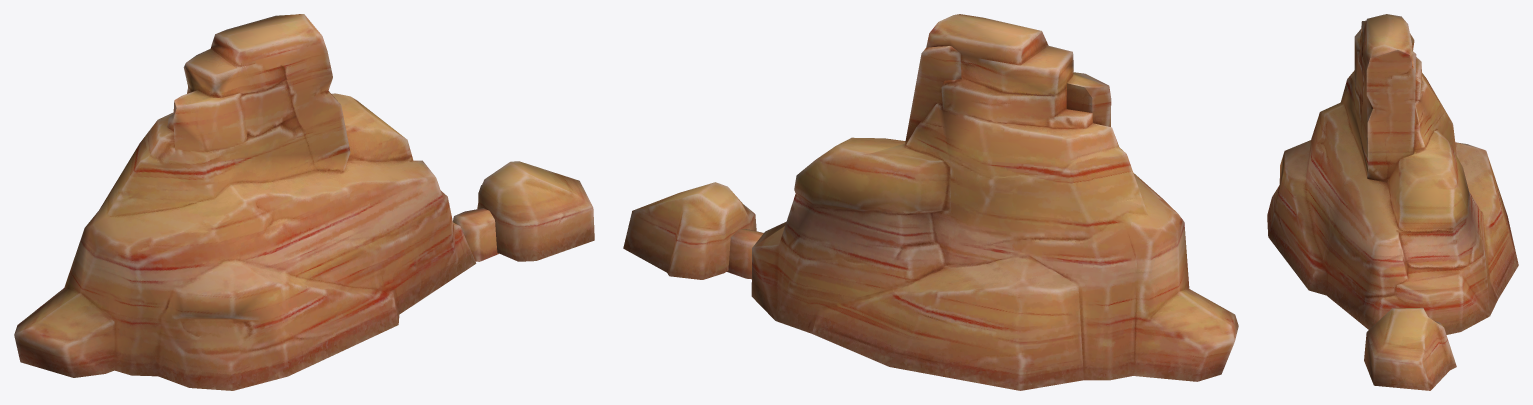
File: PF_Desertnew_mountain03.fbx
3 views of the same model, side by side, from view 1: azimuth 30°, elevation 25°; view 2: azimuth 150°, elevation 25°; view 3: azimuth 270°, elevation 25° (orthographic). The views are drawn at different scales.
Visible parts, largest first — view 1: PF_Desertnew_mountain03; view 2: PF_Desertnew_mountain03; view 3: PF_Desertnew_mountain03.
Boxes of the visible parts, x1,y1,x2,y2 form: PF_Desertnew_mountain03: [14, 14, 594, 390]; PF_Desertnew_mountain03: [623, 14, 1238, 390]; PF_Desertnew_mountain03: [1267, 14, 1518, 390].
Size of the model in its own units: 112 by 52.68 by 52.
